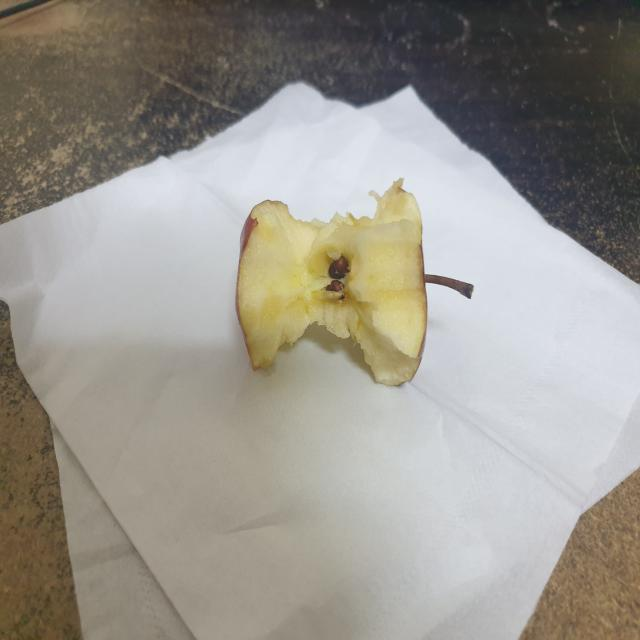apple: (210, 172, 486, 402)
